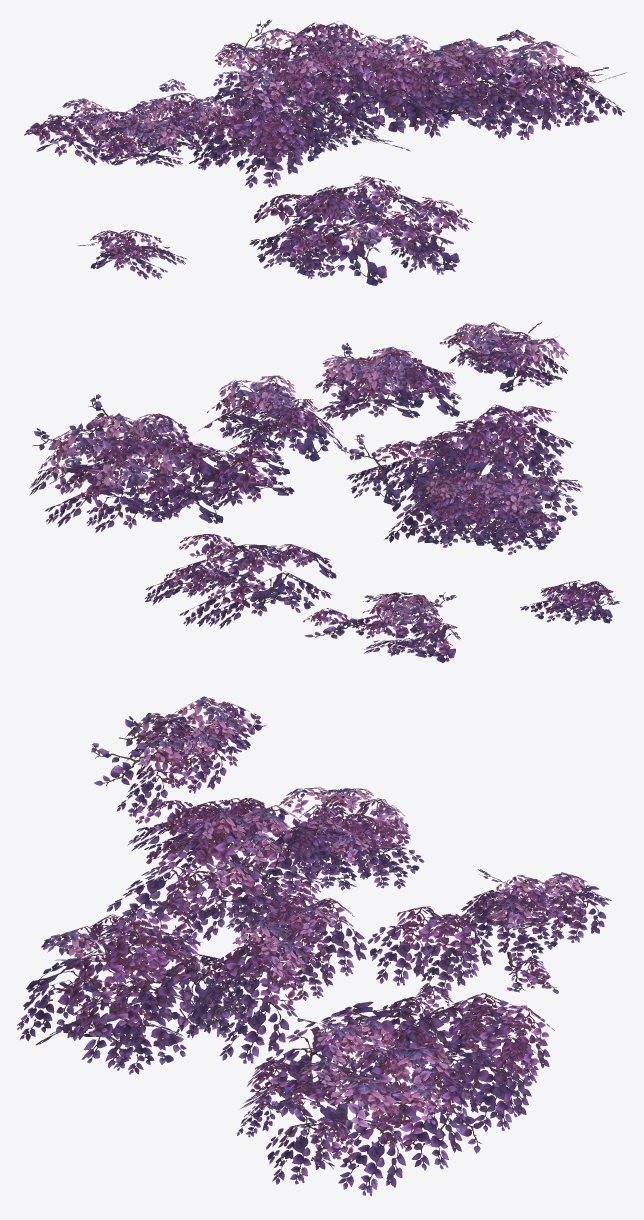
Rendered from Yland2_sy_04 Yland2.FBX.
3 views of the same model, one above another, from view 1: azimuth 30°, elevation 25°; view 2: azimuth 150°, elevation 25°; view 3: azimuth 270°, elevation 25° (orthographic). The views are drawn at different scales.
Parts seen in each view (by area): view 1: Yland2_sy_04 Yland2; view 2: Yland2_sy_04 Yland2; view 3: Yland2_sy_04 Yland2.
Boxes of the visible parts, x1,y1,x2,y2 form: Yland2_sy_04 Yland2: (24,19,626,285); Yland2_sy_04 Yland2: (29,322,619,662); Yland2_sy_04 Yland2: (17,696,611,1196).
Bounding box in the file's own units: 59.2 × 24.77 × 44.6.
